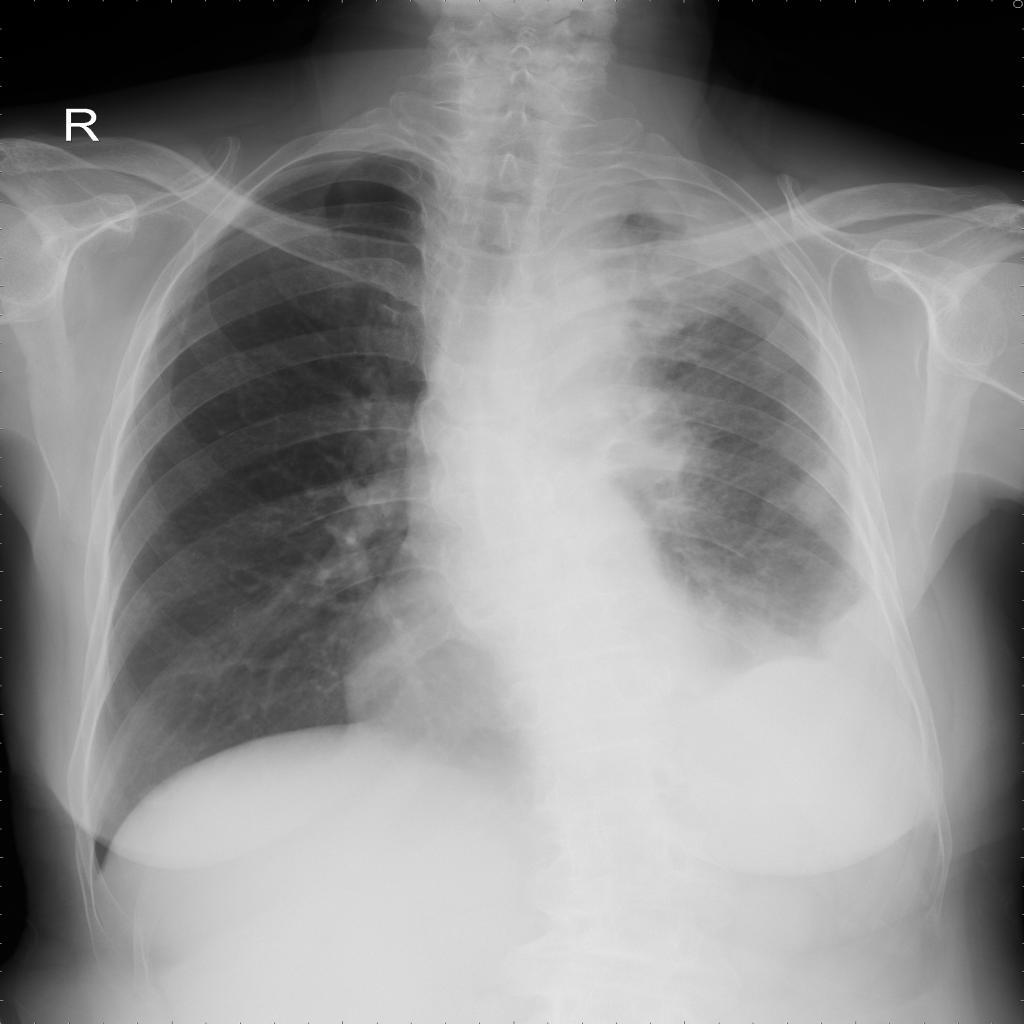Nodule: (792, 467, 835, 524), (754, 488, 794, 531)
